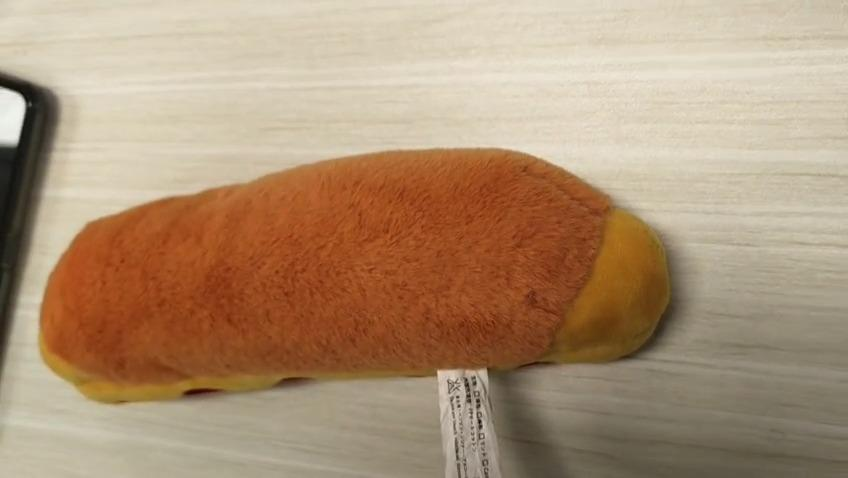hotdog: (39, 146, 675, 405)
